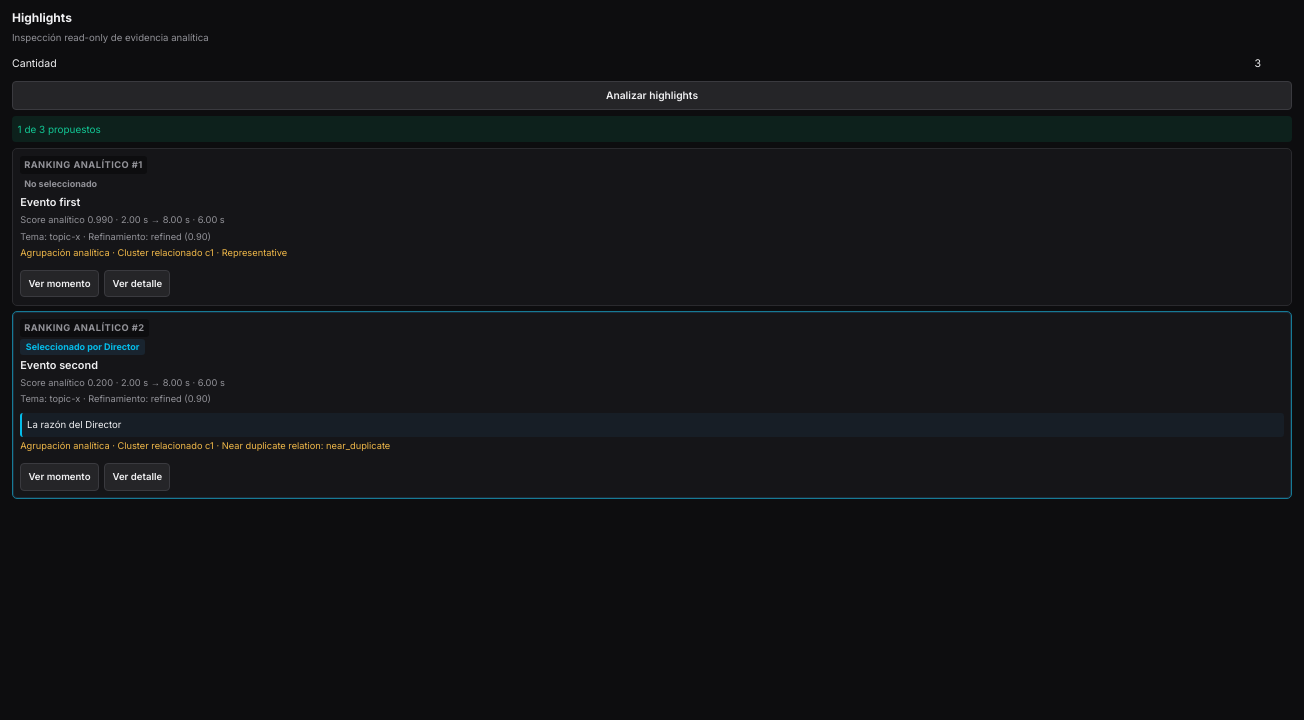
Test case: HighlightInspector › expande boundaries, signals, topics, score y cluster informativo
Click the button "Ver detalle" below "Representative": coordinates (137, 284) [104,270,170,298]
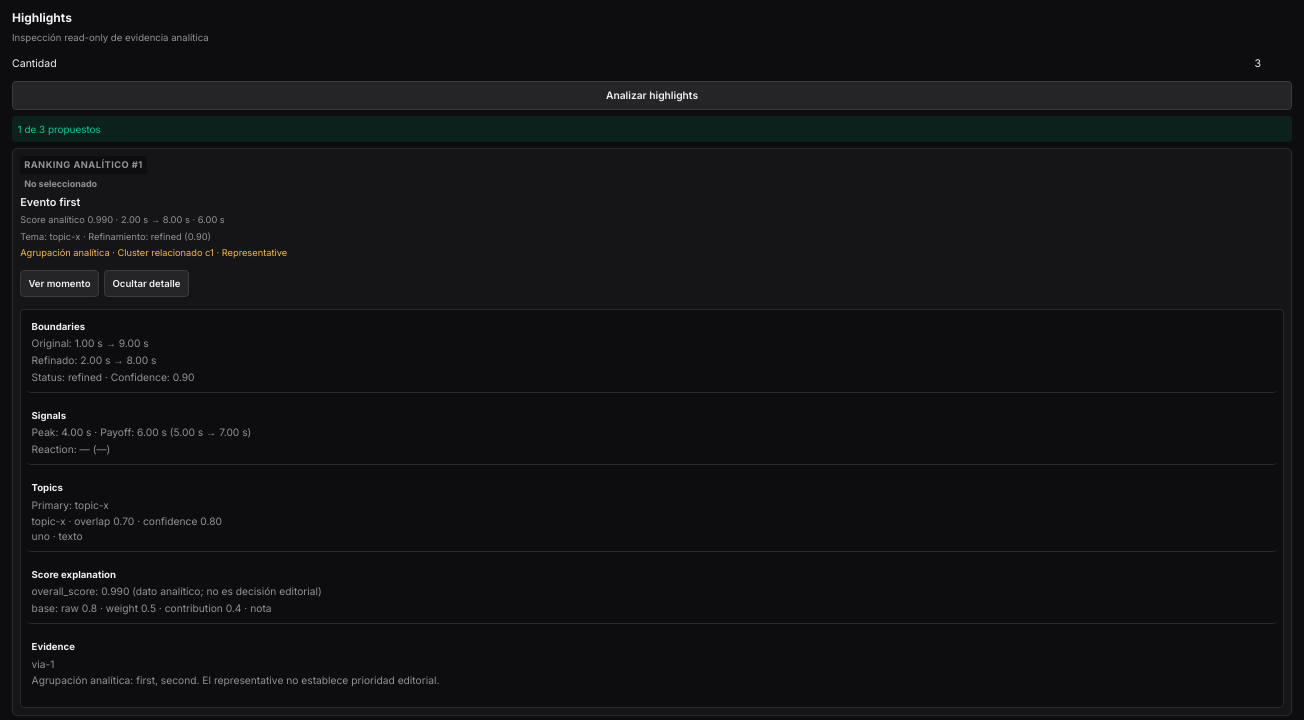
Check: the text "Boundaries" is shown, box [32,321,85,332]
Check: the text "Score explanation" is shown, box [32,569,116,580]
Check: the text "Topics" is shown, box [32,482,63,493]
